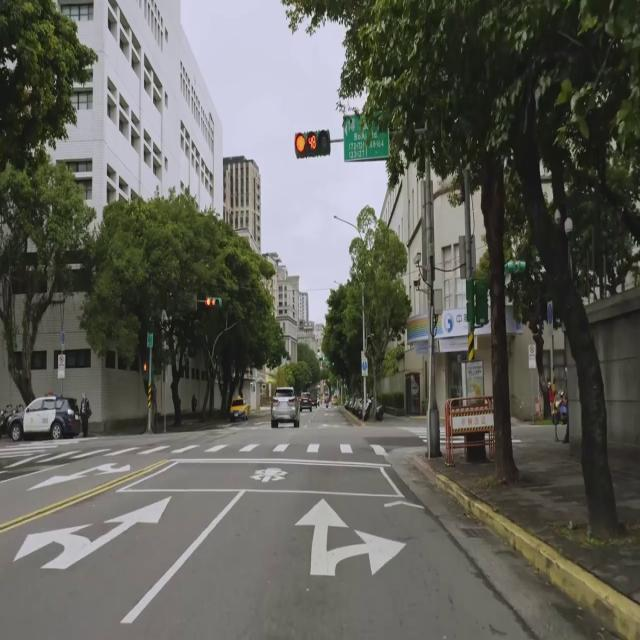red light: (294, 132, 330, 158), (204, 296, 222, 309)
